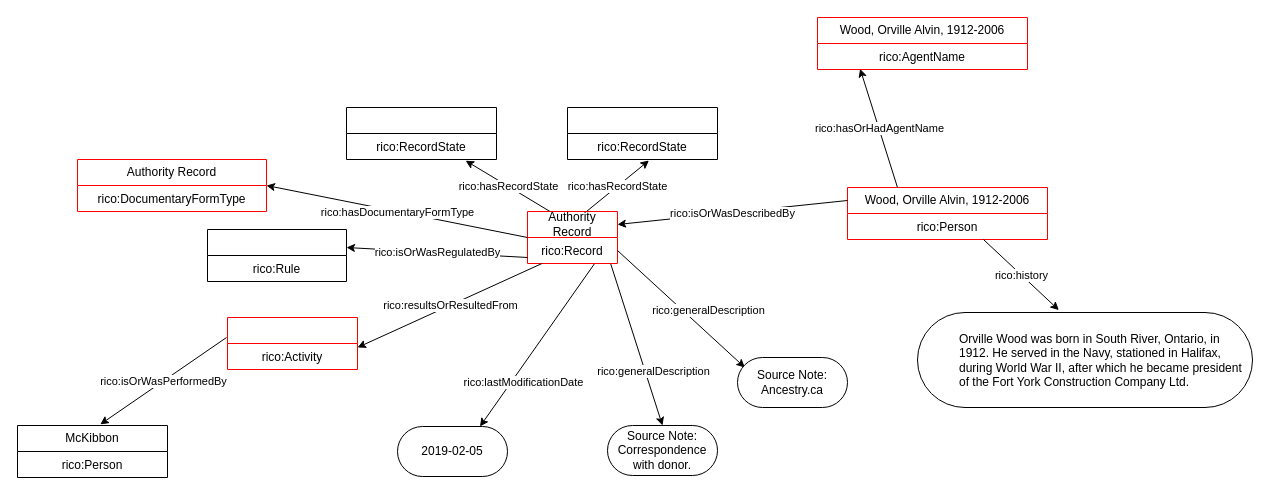
Image size: 1270x498. Some labels were removed from this diagram. The shapes that lost their labels are listed below. From the top down, each one's box as (x1, y1, x2, y2) in pixels, then its label:
(346, 106, 496, 160): Web Ready: Y
(566, 106, 718, 160): Status: Approved
(206, 228, 346, 282): Rules for Archival Description
(226, 316, 358, 370): Authority Record Creation
